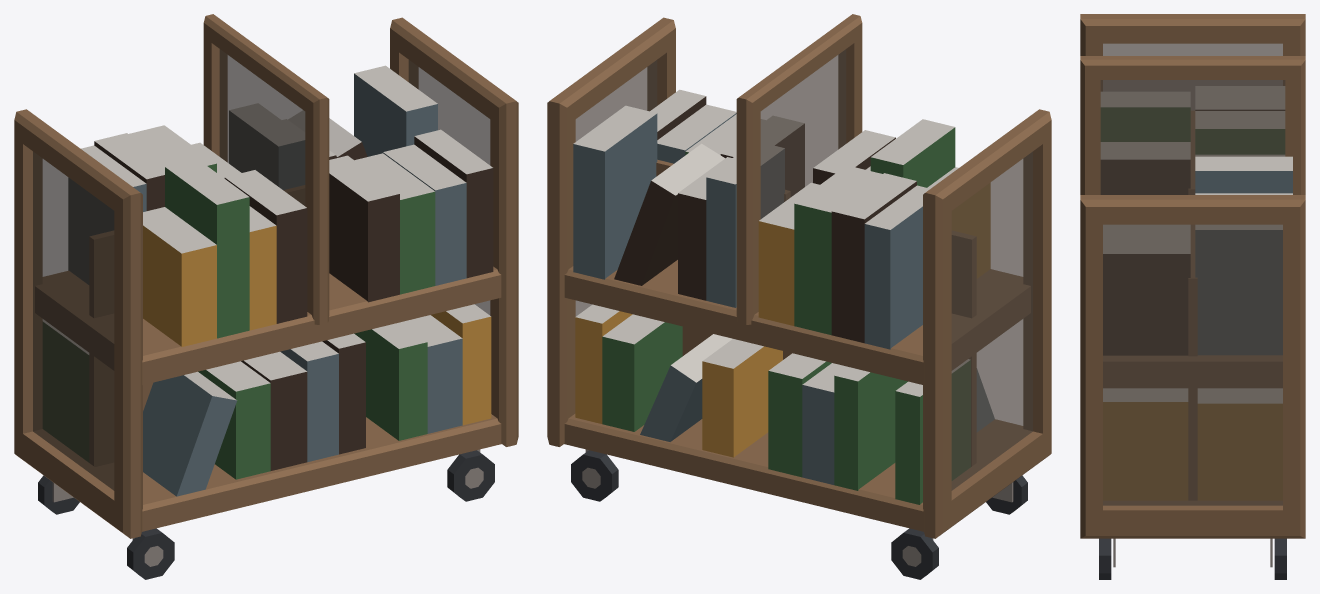
File: stage2_book_trolley.glb
The picture shows the model from 3 angles, left to right: view 1: azimuth 30°, elevation 25°; view 2: azimuth 150°, elevation 25°; view 3: azimuth 270°, elevation 25°; orthographic projection.
Visible parts, largest first — view 1: book-rows, trolley-frame, trolley-glass, tyre-fl, tyre-fr, tyre-rr; view 2: book-rows, trolley-frame, trolley-glass, tyre-rl, tyre-rr, tyre-fr; view 3: trolley-glass, book-rows, trolley-frame, tyre-fl, tyre-rl.
Part boxes in pixels (x1=…): book-rows: x1=43, y1=65, x2=493, y2=496; trolley-frame: x1=14, y1=14, x2=518, y2=538; trolley-glass: x1=33, y1=49, x2=490, y2=490; tyre-fl: x1=447, y1=450, x2=494, y2=501; tyre-fr: x1=127, y1=528, x2=174, y2=579; tyre-rr: x1=38, y1=475, x2=79, y2=514; book-rows: x1=573, y1=89, x2=994, y2=504; trolley-frame: x1=547, y1=14, x2=1051, y2=538; trolley-glass: x1=575, y1=49, x2=1032, y2=490; tyre-rl: x1=571, y1=450, x2=618, y2=501; tyre-rr: x1=891, y1=528, x2=938, y2=579; tyre-fr: x1=986, y1=475, x2=1027, y2=514; trolley-glass: x1=1100, y1=43, x2=1285, y2=505; book-rows: x1=1101, y1=86, x2=1292, y2=500; trolley-frame: x1=1080, y1=14, x2=1305, y2=538; tyre-fl: x1=1099, y1=538, x2=1111, y2=579; tyre-rl: x1=1274, y1=538, x2=1286, y2=579.
Bounding box in the file's own units: 1 × 1.08 × 0.5.
